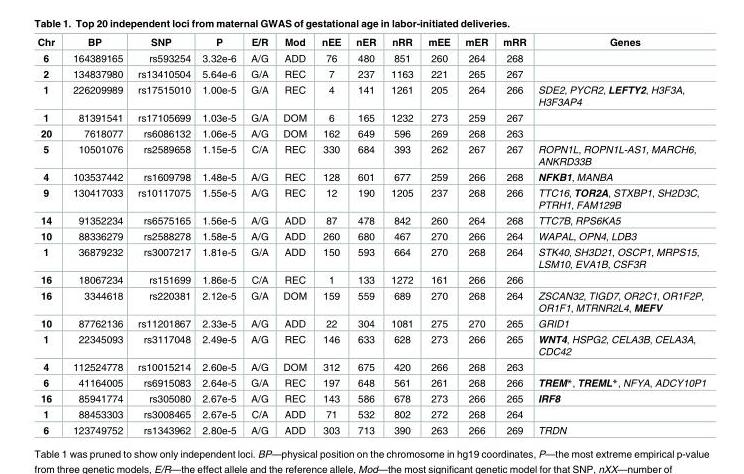table: (36, 37, 705, 435)
table column: (531, 37, 705, 435), (63, 37, 129, 435), (129, 37, 195, 435), (195, 37, 242, 435), (275, 37, 313, 435), (382, 37, 420, 435), (420, 37, 457, 435), (457, 37, 494, 435), (494, 37, 531, 435), (347, 37, 382, 435), (313, 37, 347, 435), (242, 37, 275, 435), (36, 37, 63, 435)
table column header: (36, 37, 705, 50)
table row: (36, 141, 705, 169), (36, 244, 705, 272), (36, 287, 705, 315), (36, 331, 705, 359), (36, 82, 705, 109), (36, 185, 705, 212), (36, 374, 705, 391), (36, 50, 705, 66), (36, 66, 705, 82), (36, 109, 705, 125), (36, 125, 705, 141), (36, 169, 705, 185), (36, 212, 705, 228), (36, 228, 705, 244), (36, 315, 705, 331), (36, 406, 705, 422), (36, 272, 705, 287), (36, 359, 705, 374), (36, 391, 705, 406), (36, 37, 705, 50), (36, 422, 705, 435)
